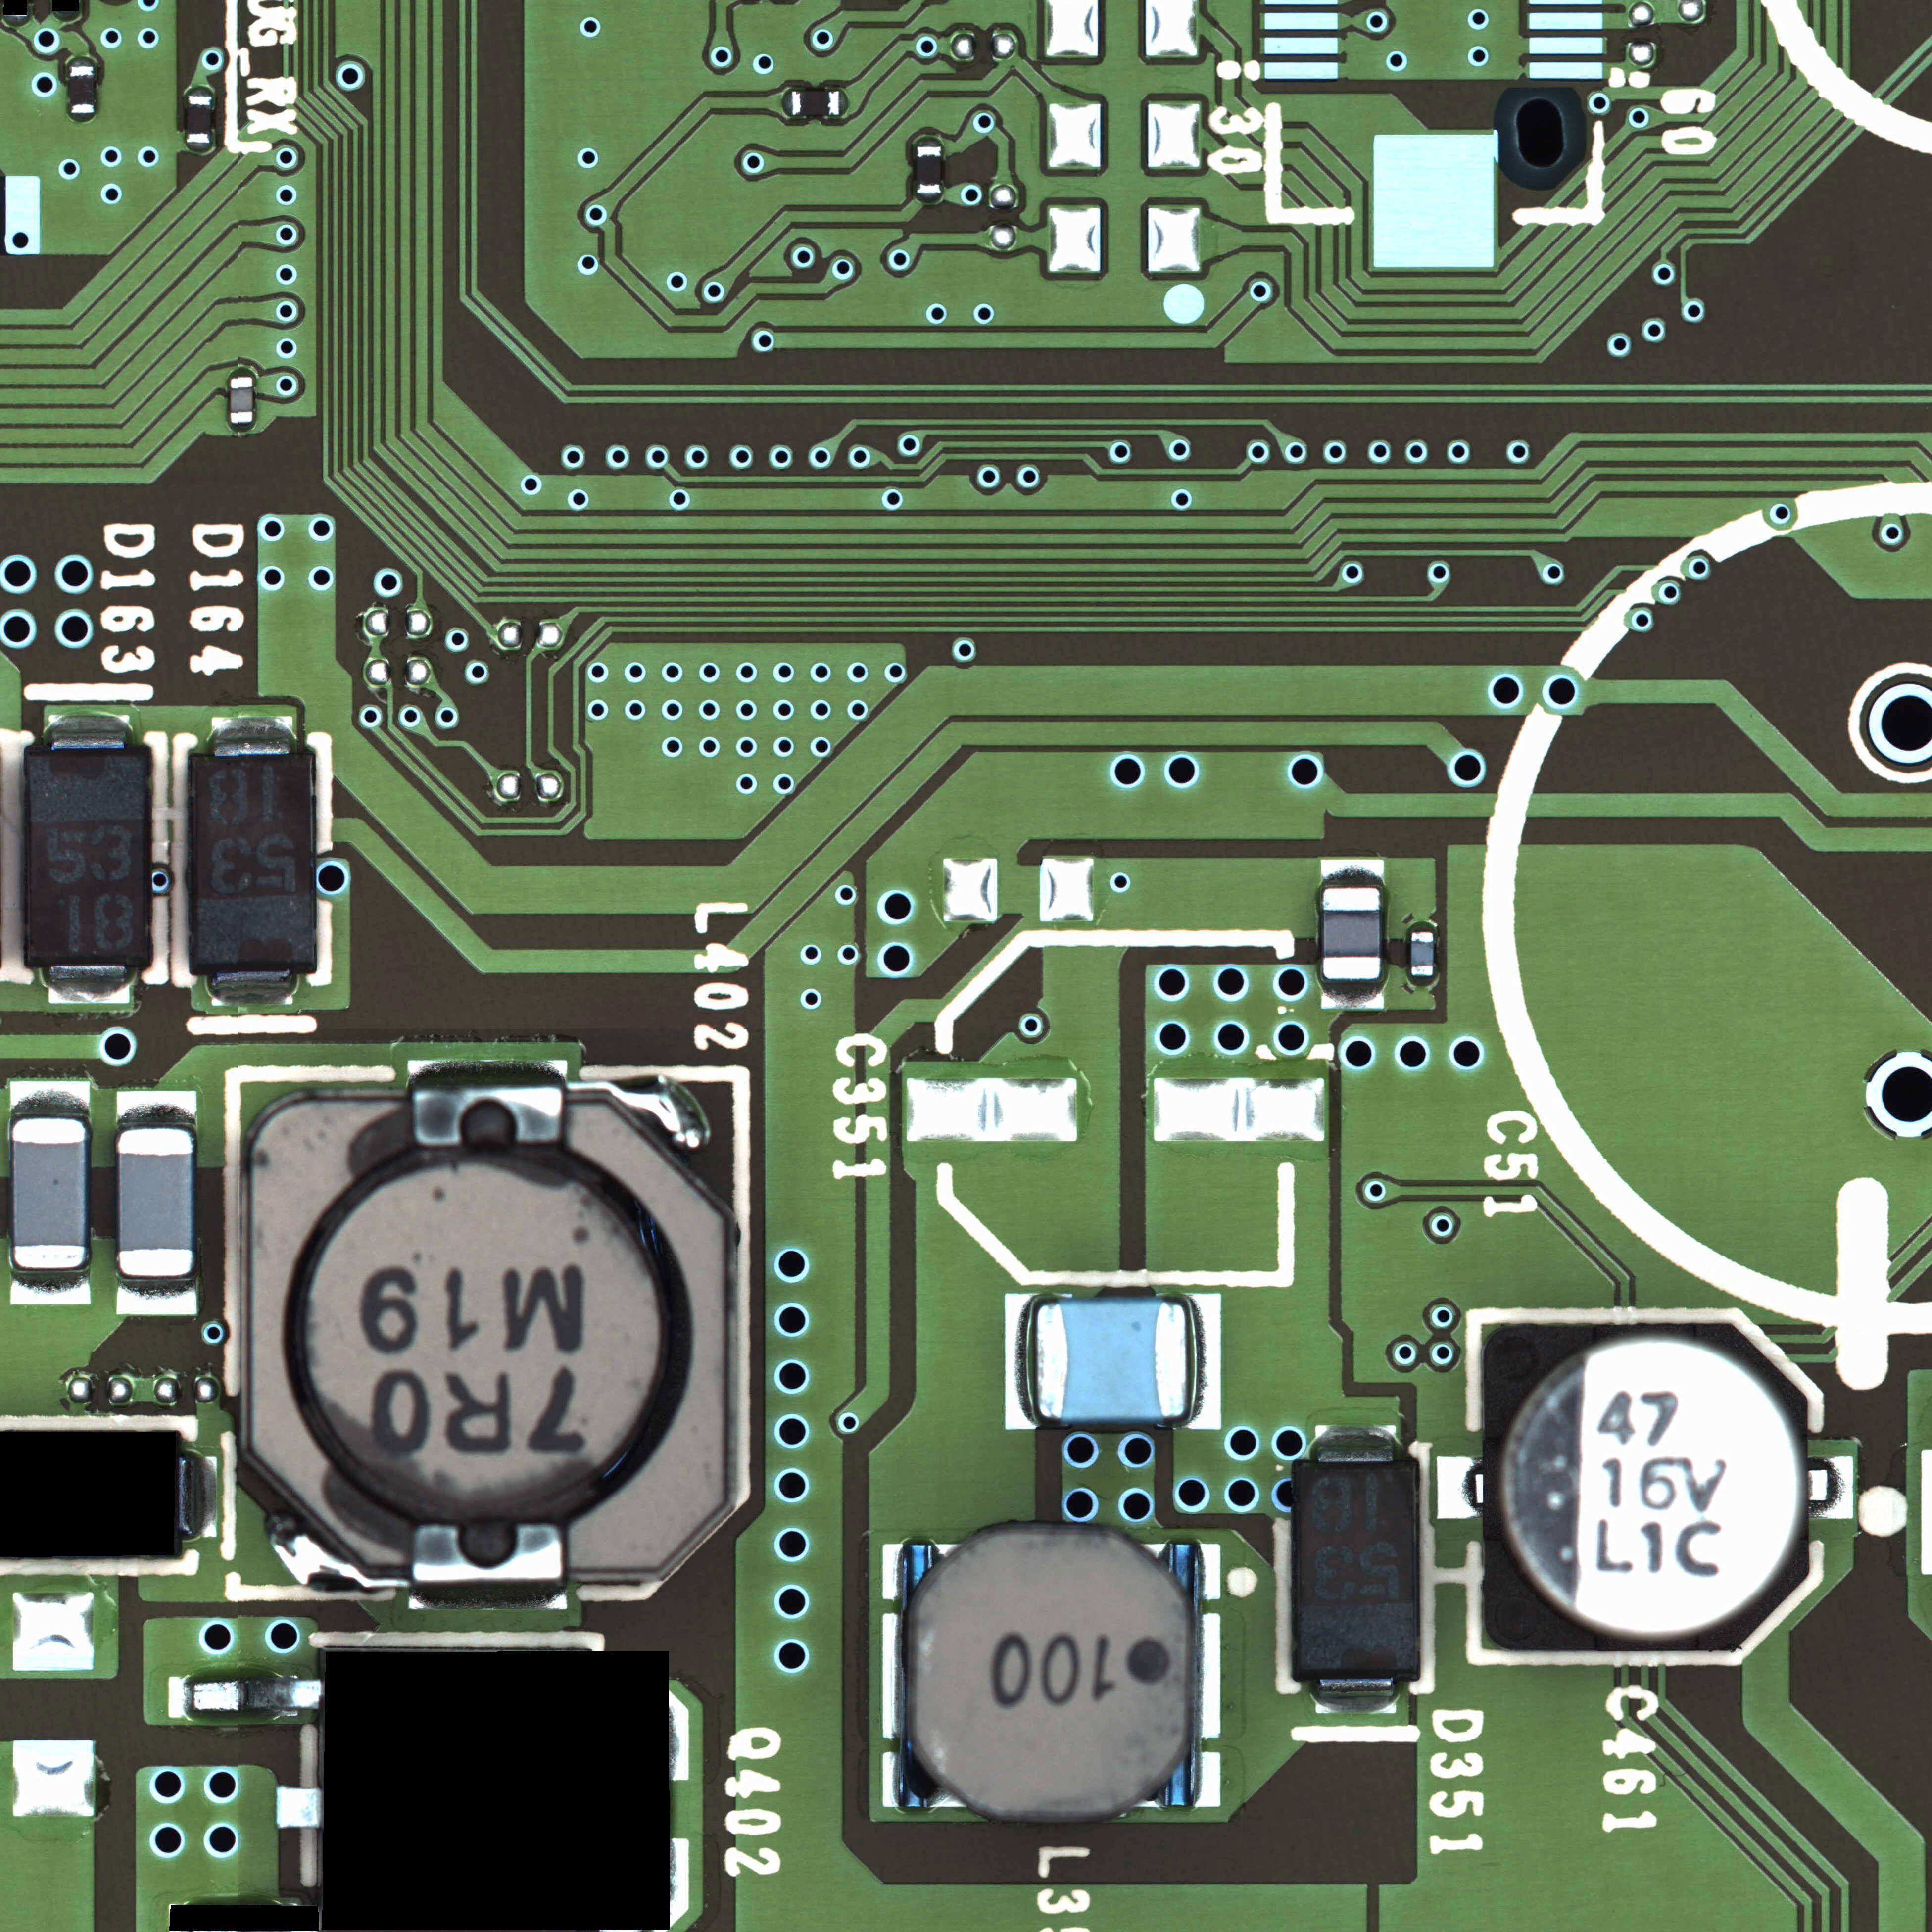Package: (241, 1088, 736, 1582), (1483, 1322, 1810, 1651), (899, 1536, 1198, 1817), (1293, 1461, 1422, 1679), (193, 752, 317, 971), (27, 750, 150, 964), (1035, 1300, 1187, 1421), (119, 1129, 195, 1276), (12, 1120, 87, 1269), (1323, 888, 1380, 978), (791, 90, 839, 115), (916, 147, 941, 193), (71, 65, 94, 113), (188, 96, 211, 142), (230, 377, 253, 421), (1410, 932, 1433, 975)
Solder: (168, 1675, 320, 1720), (409, 1582, 568, 1610), (407, 1060, 566, 1086), (1005, 1295, 1035, 1430), (1189, 1295, 1219, 1430), (48, 966, 131, 1005), (211, 715, 292, 754), (180, 1447, 214, 1537), (1315, 1422, 1396, 1460), (46, 711, 131, 747), (1810, 1454, 1854, 1520), (119, 1090, 196, 1127), (1200, 1614, 1223, 1737), (12, 1079, 88, 1116), (209, 975, 295, 1007), (117, 1277, 195, 1313), (1438, 1456, 1483, 1518), (12, 1269, 88, 1304), (1315, 1681, 1398, 1713), (883, 1614, 899, 1737), (1322, 978, 1382, 1008), (278, 1785, 318, 1828), (1322, 860, 1384, 886), (1200, 1545, 1221, 1599), (1200, 1752, 1219, 1806), (883, 1752, 899, 1808), (883, 1545, 899, 1599), (839, 88, 849, 117), (53, 12, 81, 23), (67, 57, 97, 65), (782, 88, 791, 117), (1410, 920, 1433, 931), (230, 423, 253, 433), (1412, 975, 1435, 985), (4, 18, 30, 27), (916, 136, 941, 145), (916, 193, 941, 202), (186, 143, 211, 152), (69, 113, 94, 122), (188, 85, 212, 94), (230, 368, 253, 375)
